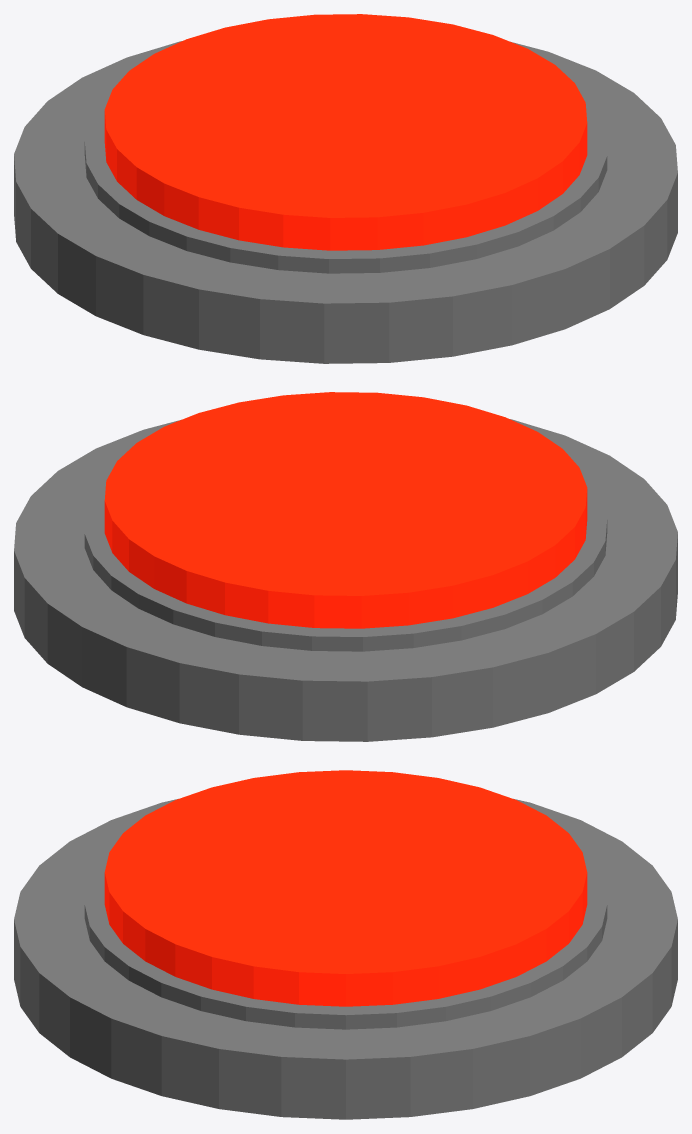
Rendered from Button.fbx.
3 views of the same model, one above another, from view 1: azimuth 30°, elevation 25°; view 2: azimuth 150°, elevation 25°; view 3: azimuth 270°, elevation 25° (orthographic).
Parts seen in each view (by area): view 1: Base, Button; view 2: Base, Button; view 3: Base, Button.
Boxes of the visible parts, x1,y1,x2,y2 form: Base: (14,41,677,363); Button: (104,14,587,250); Base: (14,419,677,741); Button: (104,392,587,628); Base: (14,798,677,1119); Button: (104,770,587,1006).
Size of the model in its own units: 200 by 35.66 by 200.
